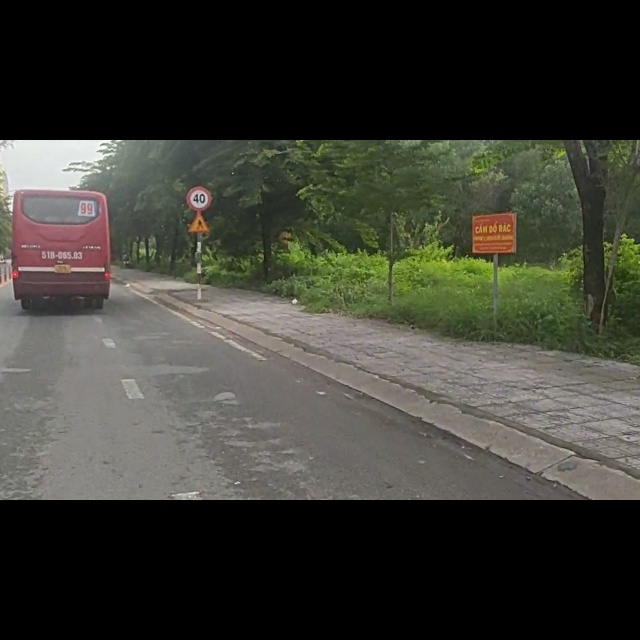bien_nguy_hiem: (186, 81, 213, 127), (189, 129, 211, 169)
